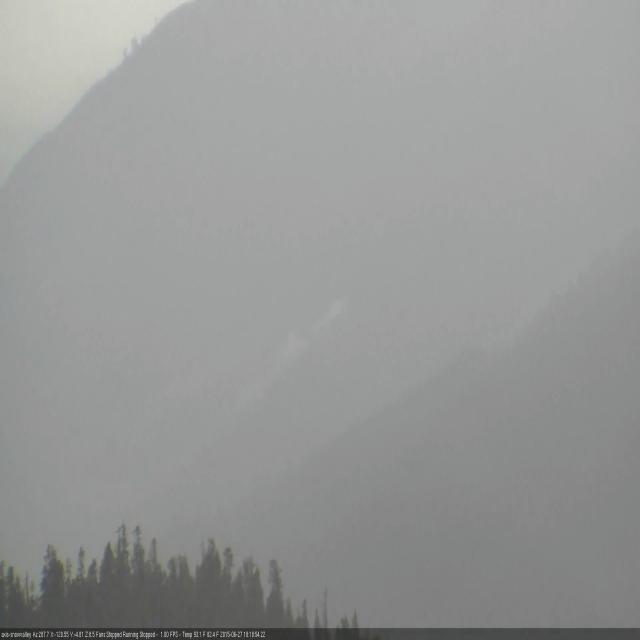smoke: (289, 290, 348, 350)
